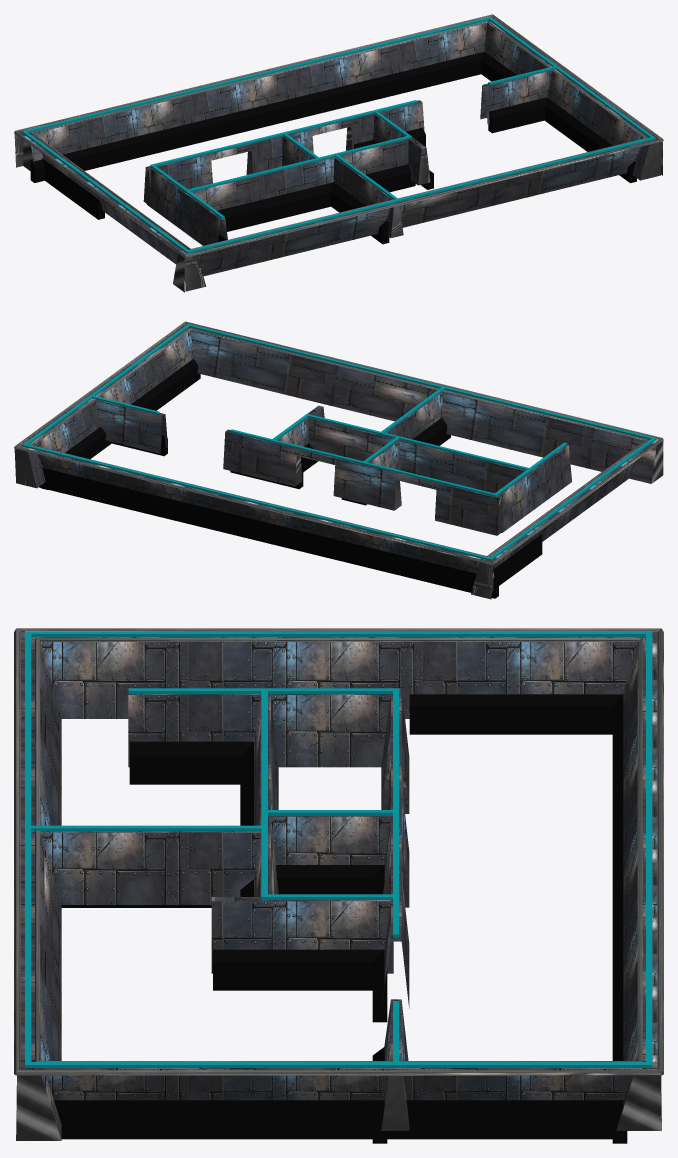
Rendered from Walls.fbx.
3 views of the same model, one above another, from view 1: azimuth 30°, elevation 25°; view 2: azimuth 150°, elevation 25°; view 3: azimuth 270°, elevation 25° (orthographic). The views are drawn at different scales.
Visible parts, largest first — view 1: polySurface4, pCube11, pCube19, pCube31, pCube18, pCube14, polySurface13, polySurface14, pCube25, pCube13, polySurface17, polySurface18 (+3 smaller); view 2: polySurface4, pCube11, pCube19, pCube18, pCube14, polySurface14, polySurface13, polySurface17, pCube13, polySurface18, polySurface12, polySurface15 (+1 smaller); view 3: polySurface4, pCube14, pCube19, pCube13, pCube18, pCube30, pCube32, pCube11, polySurface12, polySurface15, polySurface13, polySurface14 (+9 smaller).
Boxes of the visible parts, x1=… form: polySurface4: x1=14, y1=17, x2=662, y2=292; pCube11: x1=30, y1=52, x2=483, y2=182; pCube19: x1=14, y1=14, x2=663, y2=257; pCube31: x1=217, y1=164, x2=415, y2=231; pCube18: x1=30, y1=20, x2=647, y2=249; pCube14: x1=481, y1=51, x2=636, y2=183; polySurface13: x1=188, y1=137, x2=653, y2=252; polySurface14: x1=23, y1=17, x2=490, y2=132; pCube25: x1=488, y1=97, x2=547, y2=133; pCube13: x1=42, y1=158, x2=104, y2=219; polySurface17: x1=150, y1=100, x2=417, y2=166; polySurface18: x1=188, y1=135, x2=411, y2=191; polySurface4: x1=14, y1=324, x2=663, y2=599; pCube11: x1=39, y1=468, x2=498, y2=598; pCube19: x1=14, y1=321, x2=663, y2=564; pCube18: x1=30, y1=328, x2=647, y2=556; pCube14: x1=41, y1=359, x2=200, y2=489; polySurface14: x1=23, y1=444, x2=489, y2=559; polySurface13: x1=188, y1=324, x2=652, y2=439; polySurface17: x1=230, y1=429, x2=496, y2=496; pCube13: x1=493, y1=534, x2=542, y2=585; polySurface18: x1=306, y1=414, x2=528, y2=470; polySurface12: x1=488, y1=437, x2=656, y2=560; polySurface15: x1=22, y1=324, x2=190, y2=446; polySurface4: x1=16, y1=632, x2=661, y2=1140; pCube14: x1=54, y1=1100, x2=623, y2=1139; pCube19: x1=14, y1=628, x2=663, y2=1076; pCube13: x1=409, y1=694, x2=622, y2=734; pCube18: x1=35, y1=638, x2=642, y2=1061; pCube30: x1=213, y1=949, x2=383, y2=990; pCube32: x1=129, y1=741, x2=253, y2=784; pCube11: x1=612, y1=694, x2=627, y2=1143; polySurface12: x1=25, y1=631, x2=652, y2=637; polySurface15: x1=25, y1=1062, x2=652, y2=1067; polySurface13: x1=25, y1=634, x2=31, y2=1063; polySurface14: x1=646, y1=634, x2=652, y2=1064.
Bounding box in the file's own units: 35.69 × 3.23 × 22.08.
